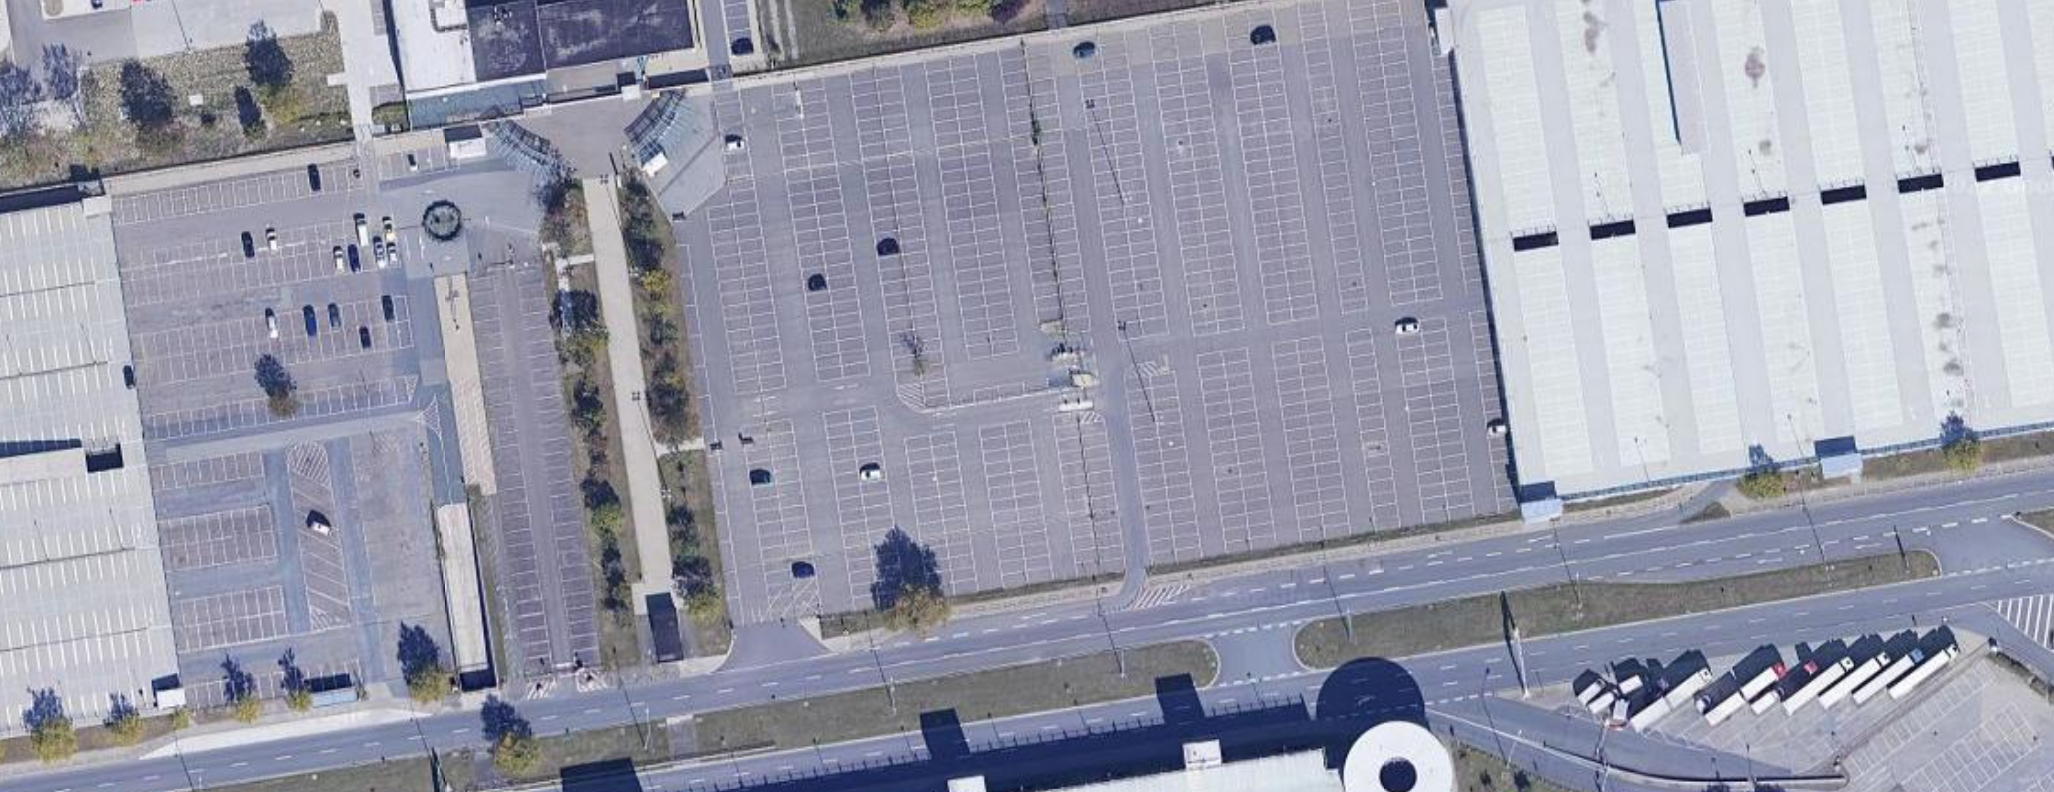car: (380, 293, 398, 323), (352, 215, 369, 246), (301, 305, 318, 336), (1392, 318, 1421, 335), (1484, 420, 1510, 439), (265, 226, 279, 257), (347, 243, 362, 274), (858, 465, 883, 482), (307, 164, 321, 192), (265, 310, 279, 339), (358, 326, 375, 350), (327, 302, 342, 330), (241, 230, 255, 257), (749, 469, 772, 484), (1072, 45, 1098, 58), (373, 240, 385, 268), (333, 245, 345, 272), (724, 139, 745, 151)
